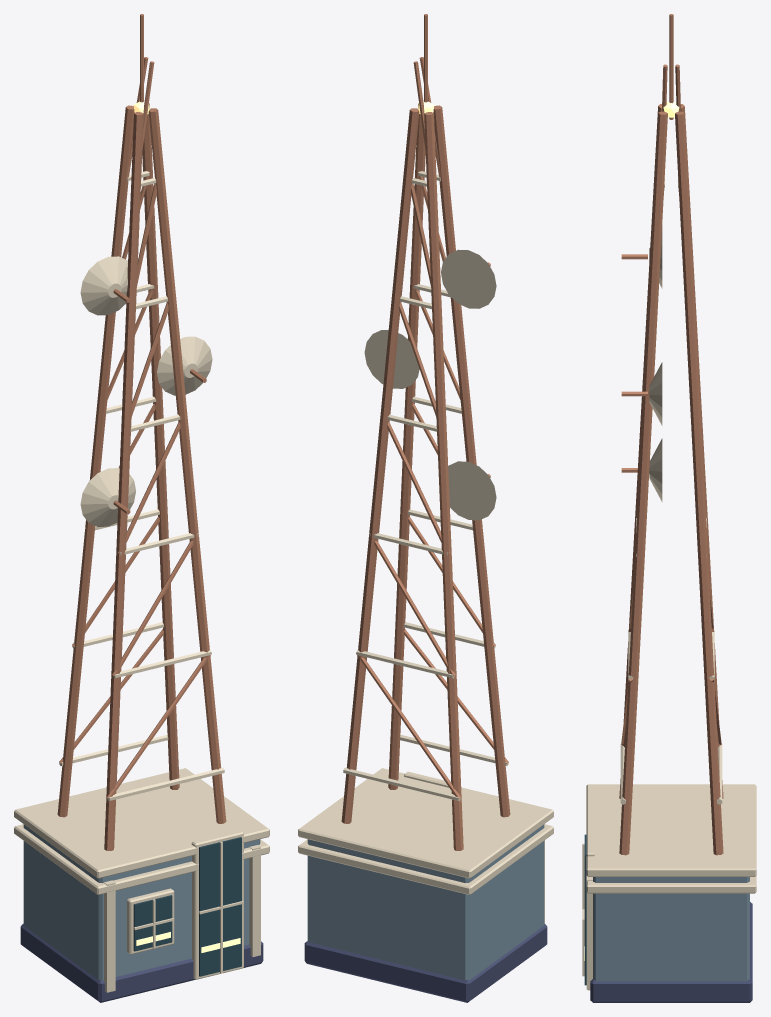
File: sf3_communications_hut_7m.glb
The picture shows the model from 3 angles, left to right: view 1: azimuth 30°, elevation 25°; view 2: azimuth 150°, elevation 25°; view 3: azimuth 270°, elevation 25°; orthographic projection.
Visible parts, largest first — view 1: sf3_communications_hut_7m__sf3-burnished-copper, sf3_communications_hut_7m__sf3-warm-ivory, sf3_communications_hut_7m__sf3-dusty-blue, sf3_communications_hut_7m__sf3-deep-glass, sf3_communications_hut_7m__sf3-midnight-indigo, sf3_communications_hut_7m__sf3-warm-window; view 2: sf3_communications_hut_7m__sf3-burnished-copper, sf3_communications_hut_7m__sf3-warm-ivory, sf3_communications_hut_7m__sf3-dusty-blue, sf3_communications_hut_7m__sf3-midnight-indigo; view 3: sf3_communications_hut_7m__sf3-warm-ivory, sf3_communications_hut_7m__sf3-burnished-copper, sf3_communications_hut_7m__sf3-dusty-blue, sf3_communications_hut_7m__sf3-midnight-indigo, sf3_communications_hut_7m__sf3-deep-glass.
Part boxes in pixels (<box>): sf3_communications_hut_7m__sf3-burnished-copper: <box>57,14,226,850</box>; sf3_communications_hut_7m__sf3-warm-ivory: <box>14,171,269,992</box>; sf3_communications_hut_7m__sf3-dusty-blue: <box>23,824,260,980</box>; sf3_communications_hut_7m__sf3-deep-glass: <box>133,837,241,976</box>; sf3_communications_hut_7m__sf3-midnight-indigo: <box>20,923,263,1002</box>; sf3_communications_hut_7m__sf3-warm-window: <box>133,101,240,952</box>; sf3_communications_hut_7m__sf3-burnished-copper: <box>341,14,510,850</box>; sf3_communications_hut_7m__sf3-warm-ivory: <box>298,171,553,923</box>; sf3_communications_hut_7m__sf3-dusty-blue: <box>307,824,544,980</box>; sf3_communications_hut_7m__sf3-midnight-indigo: <box>304,923,547,1002</box>; sf3_communications_hut_7m__sf3-warm-ivory: <box>582,175,756,990</box>; sf3_communications_hut_7m__sf3-burnished-copper: <box>619,14,723,855</box>; sf3_communications_hut_7m__sf3-dusty-blue: <box>593,877,749,981</box>; sf3_communications_hut_7m__sf3-midnight-indigo: <box>590,902,752,1002</box>; sf3_communications_hut_7m__sf3-deep-glass: <box>584,834,586,985</box>.
Size of the model in its own units: 3.85 by 20 by 3.32.
